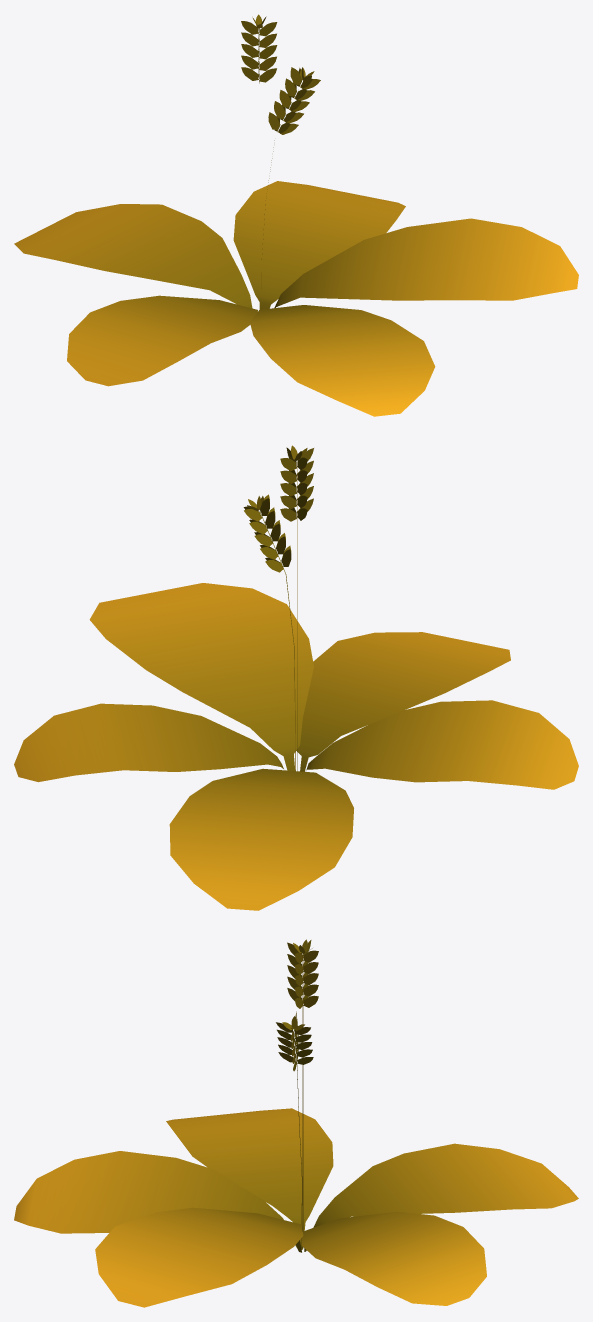
Rendered from plant1_001.fbx.
The picture shows the model from 3 angles, top to bottom: view 1: azimuth 30°, elevation 25°; view 2: azimuth 150°, elevation 25°; view 3: azimuth 270°, elevation 25°; orthographic projection. The views are drawn at different scales.
Parts seen in each view (by area): view 1: plant1.001; view 2: plant1.001; view 3: plant1.001.
Part boxes in pixels (x1=…): plant1.001: x1=14, y1=14, x2=578, y2=416; plant1.001: x1=14, y1=445, x2=578, y2=910; plant1.001: x1=14, y1=939, x2=578, y2=1307.
Bounding box in the file's own units: 35.21 × 23.36 × 38.72.
